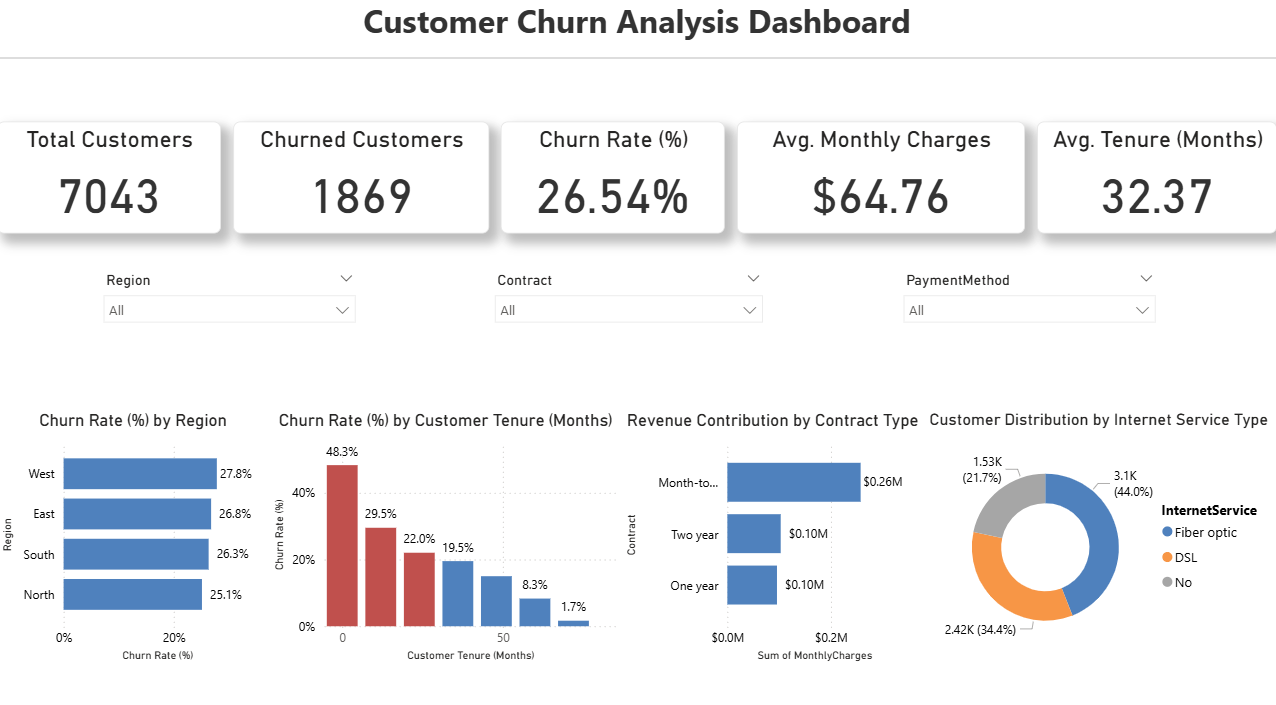

What the dashboard file says about the page in this screenshot:
{"tool":"powerbi","page":{"name":"Page 1","canvas":[1280,720],"ordinal":0},"visuals":[{"type":"slicer","fields":{"Values":["Subscription_Plans.Contract"]},"box":[488,272,288,112],"z":0},{"type":"slicer","fields":{"Values":["Subscription_Plans.PaymentMethod"]},"box":[896,272,272,112],"z":1000},{"type":"slicer","fields":{"Values":["Customer_details.Region"]},"box":[96,272,272,112],"z":2000},{"type":"card","title":"Total Customers","fields":{"Values":["Count(Customer_details.customerID)"]},"box":[0,128,224,112],"z":3000},{"type":"card","title":"Churned Customers","fields":{"Values":["Churn_Labels.Churned Customers"]},"box":[236,128,256,112],"z":4000},{"type":"card","title":"Churn Rate (%)","fields":{"Values":["Churn_Labels.Churn Rate (%)"]},"box":[504,128,224,112],"z":5000},{"type":"card","title":"Avg. Monthly Charges","fields":{"Values":["Subscription_Plans.AvgMonthlyCharges"]},"box":[740,128,288,112],"z":6000},{"type":"card","title":"Avg. Tenure (Months)","fields":{"Values":["Customer_details.Average Tenure"]},"box":[1040,128,240,112],"z":7000},{"type":"clusteredBarChart","fields":{"Category":["Customer_details.Region"],"Y":["Churn_Labels.Churn Rate (%)"]},"box":[0,416,272,256],"z":8000},{"type":"clusteredBarChart","title":"Revenue Contribution by Contract Type","fields":{"Category":["Subscription_Plans.Contract"],"Y":["Sum(Subscription_Plans.MonthlyCharges)"]},"box":[624,416,304,256],"z":9000},{"type":"donutChart","title":"Customer Distribution by Internet Service Type","fields":{"Category":["Service_Usage.InternetService"],"Y":["CountNonNull(Churn_Labels.customerID)"]},"box":[928,416,352,256],"z":10000},{"type":"columnChart","fields":{"Category":["Customer_details.Customer Tenure (Months)"],"Y":["Churn_Labels.Churn Rate (%)"]},"box":[272,416,352,256],"z":11000},{"type":"textbox","box":[0,0,1280,64],"z":12000},{"type":"shape","box":[0,0,1280,128],"z":13000}]}

Visuals, with their boxes in screenshot pixels (x1, y1, x2, y2), scaled from the page's 1280x720 canvas onto the 1276x705 screenshot:
slicer - Subscription_Plans.Contract: [486, 266, 774, 376]
slicer - Subscription_Plans.PaymentMethod: [893, 266, 1164, 376]
slicer - Customer_details.Region: [96, 266, 367, 376]
"Total Customers" card: [0, 125, 223, 235]
"Churned Customers" card: [235, 125, 490, 235]
"Churn Rate (%)" card: [502, 125, 726, 235]
"Avg. Monthly Charges" card: [738, 125, 1025, 235]
"Avg. Tenure (Months)" card: [1037, 125, 1275, 235]
clusteredBarChart - Customer_details.Region x Churn_Labels.Churn Rate (%): [0, 407, 271, 658]
"Revenue Contribution by Contract Type" clusteredBarChart: [622, 407, 925, 658]
"Customer Distribution by Internet Service Type" donutChart: [925, 407, 1275, 658]
columnChart - Customer_details.Customer Tenure (Months) x Churn_Labels.Churn Rate (%): [271, 407, 622, 658]
textbox: [0, 0, 1275, 63]
shape: [0, 0, 1275, 125]
